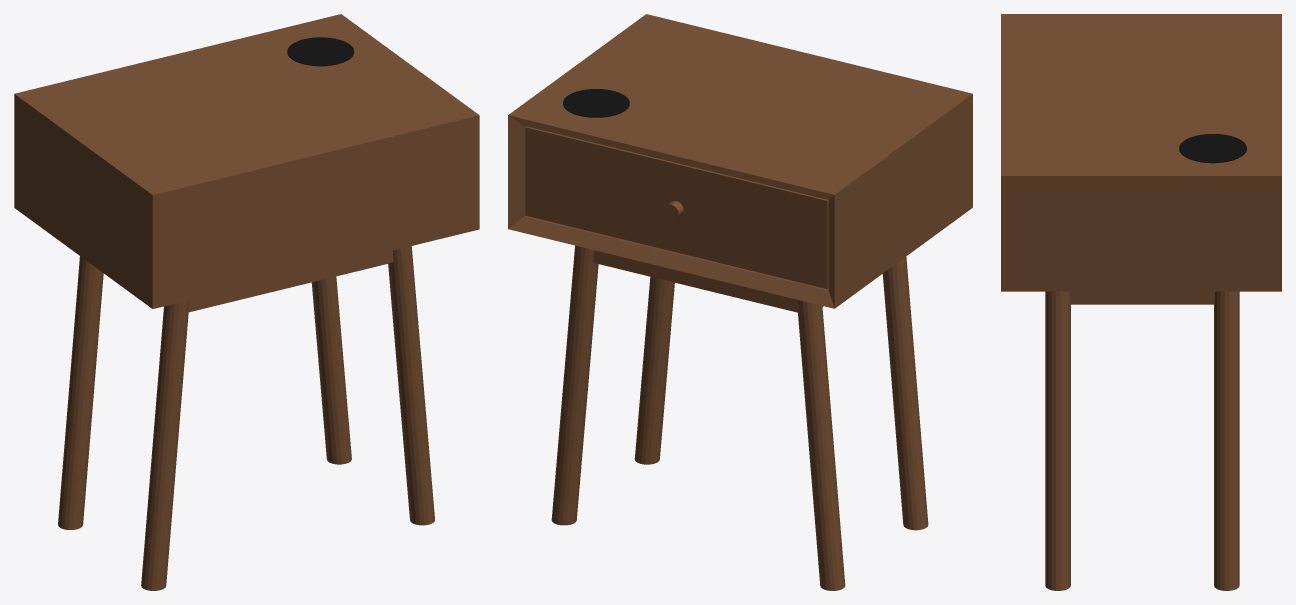
The model's file is Nightstand.fbx.
3 views of the same model, side by side, from view 1: azimuth 30°, elevation 25°; view 2: azimuth 150°, elevation 25°; view 3: azimuth 270°, elevation 25° (orthographic).
Parts seen in each view (by area): view 1: Cylinder, Cube.001, Charger; view 2: Cylinder, Cube.001, Charger; view 3: Cylinder, Cube.001, Charger.
Boxes of the visible parts, x1,y1,x2,y2 form: Cylinder: [14, 14, 479, 590]; Cube.001: [188, 250, 393, 312]; Charger: [287, 37, 354, 66]; Cylinder: [508, 14, 972, 590]; Cube.001: [593, 250, 823, 312]; Charger: [563, 89, 629, 117]; Cylinder: [1001, 14, 1281, 590]; Cube.001: [1069, 291, 1214, 304]; Charger: [1179, 134, 1246, 163].
Bounding box in the file's own units: 45 × 55.09 × 33.
